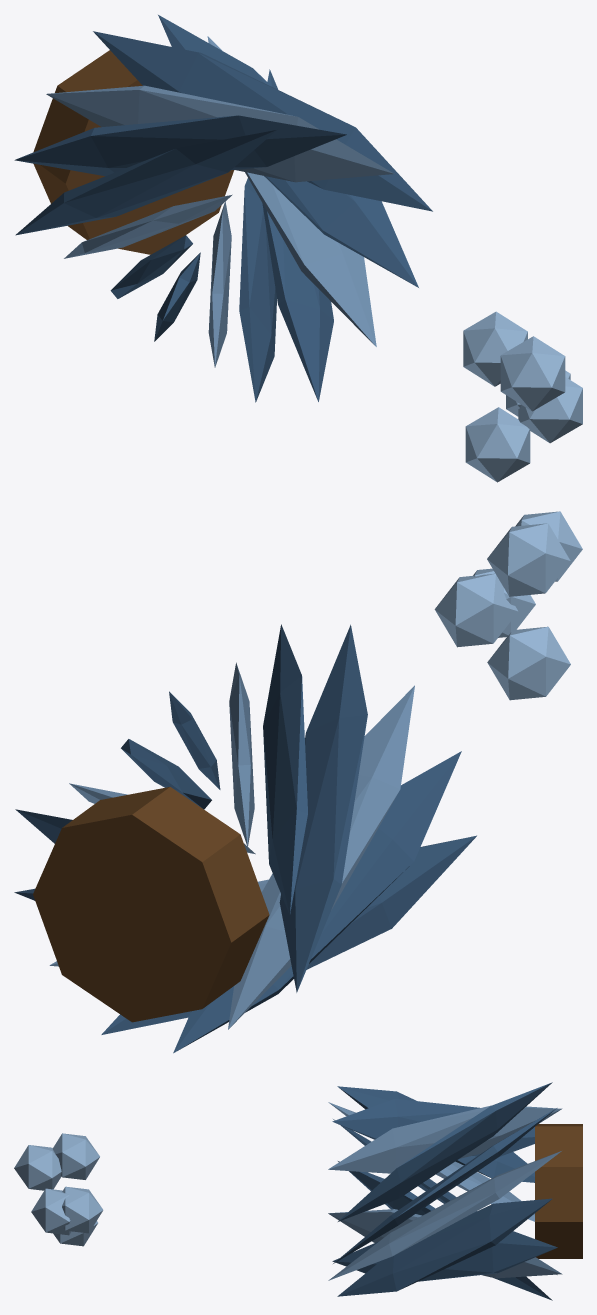
File: 4_mature.obj
3 renders of one model, top to bottom at view 1: azimuth 30°, elevation 25°; view 2: azimuth 150°, elevation 25°; view 3: azimuth 270°, elevation 25°, orthographic. The views are drawn at different scales.
Visible parts, largest first — view 1: irit_4_mature; view 2: irit_4_mature; view 3: irit_4_mature.
Part boxes in pixels (x1,y1,x2,y2): irit_4_mature: (14, 15, 582, 482); irit_4_mature: (14, 511, 582, 1053); irit_4_mature: (14, 1082, 582, 1300).
Size of the model in its own units: 0.1808 by 0.1808 by 0.4745.
